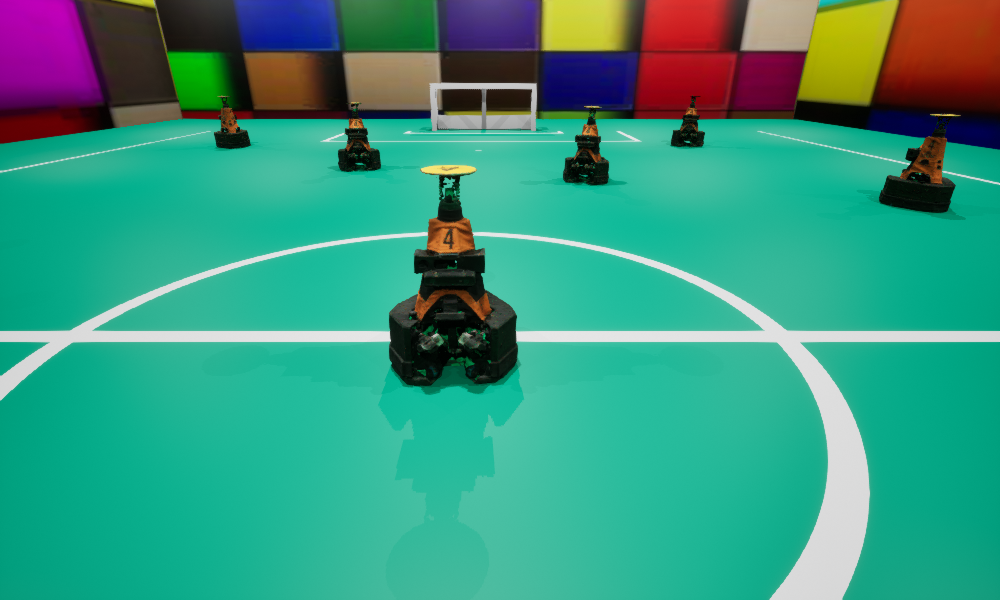0 orange robot TechUnited: (389, 165, 517, 385), (879, 114, 960, 212), (563, 106, 608, 183), (338, 102, 380, 171), (214, 96, 250, 148), (671, 95, 704, 146)
